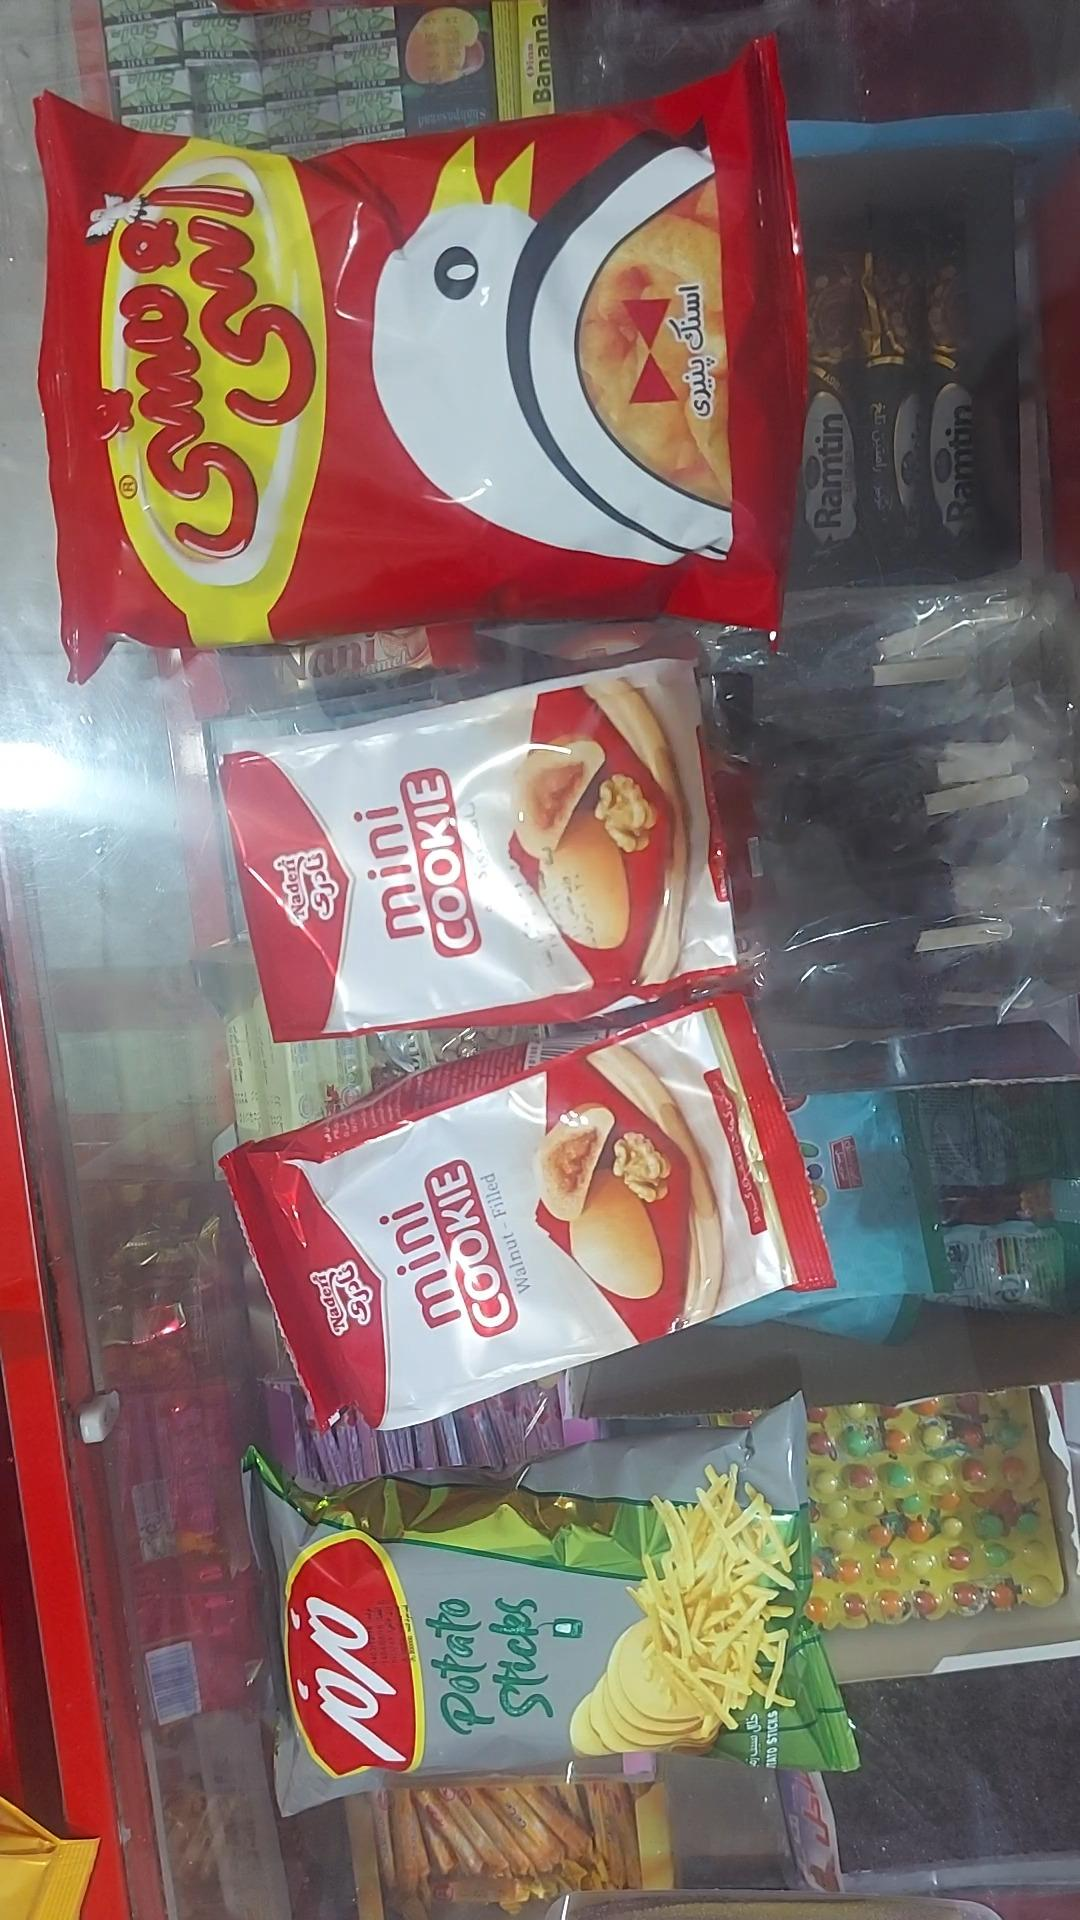Ashi Mashi snacks: (36, 46, 806, 680)
Maz Maz potato sticks: (243, 1390, 864, 1817)
Naderi mini cookie: (222, 996, 832, 1429), (218, 659, 735, 1040)
